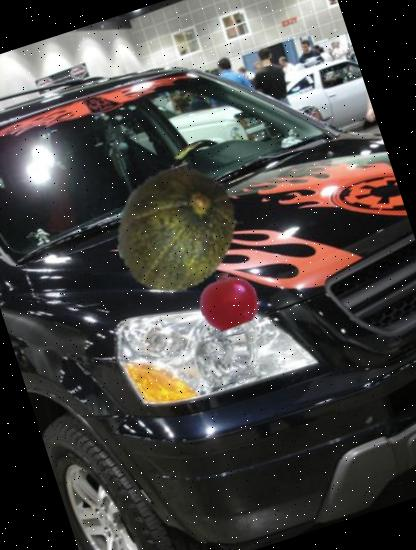Melon: (98, 148, 259, 310)
Redcurrant: (191, 262, 265, 336)
